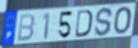1: (42, 11, 52, 41)
5: (58, 11, 73, 39)
B: (16, 13, 36, 43)
D: (75, 9, 93, 39)
O: (113, 6, 133, 36)
S: (93, 7, 114, 38)
